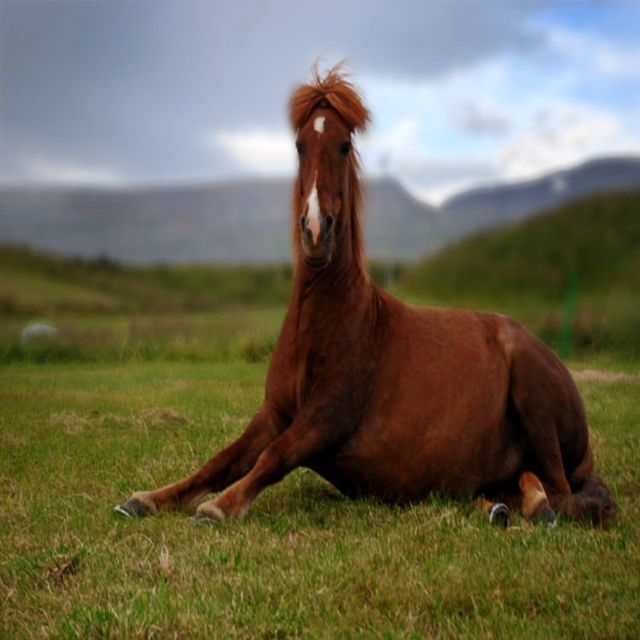Horse: (113, 50, 618, 532)
